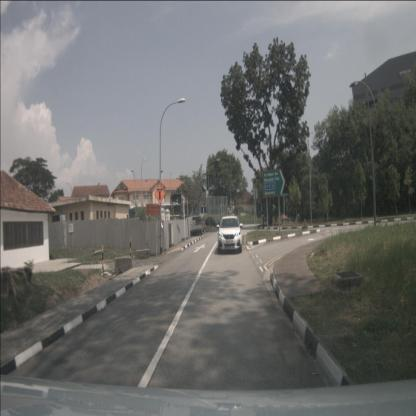human-pedestrian-adult: (262, 212, 265, 226)
vehicle-car: (217, 215, 242, 254), (205, 216, 220, 228)
vehicle-truck: (192, 215, 205, 235)
